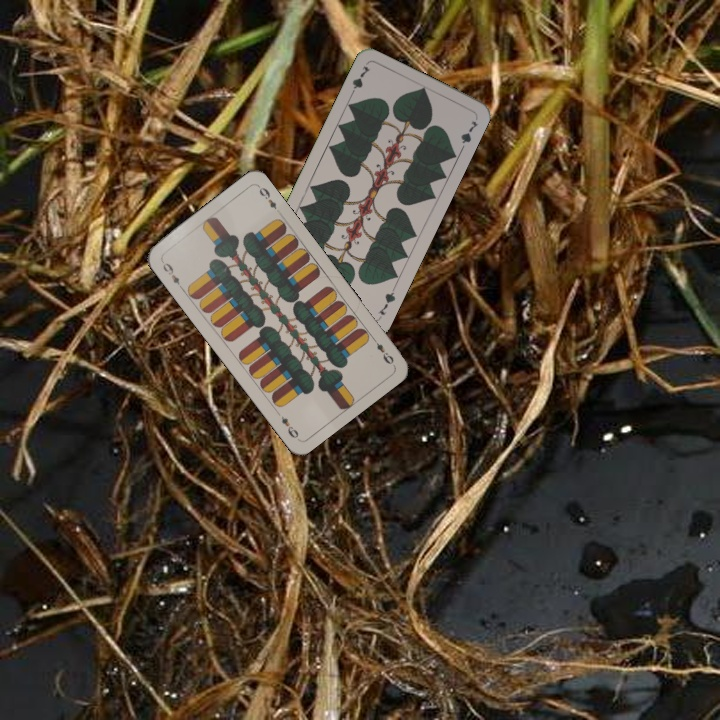E9: (157, 256, 185, 292), (368, 333, 396, 367)
G7: (346, 62, 373, 100), (374, 284, 398, 322)
